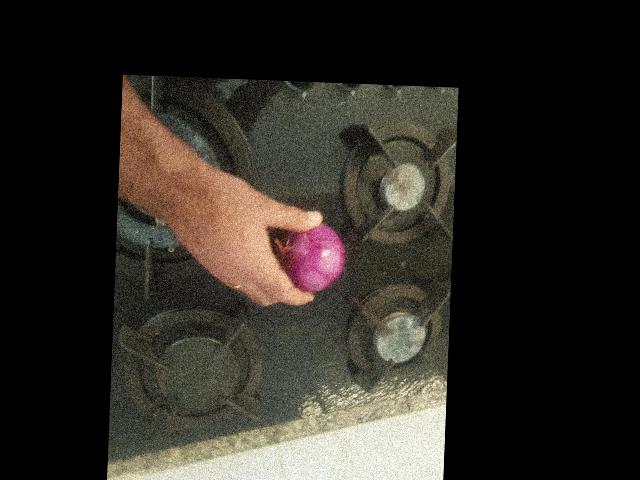onion: (281, 219, 342, 289)
